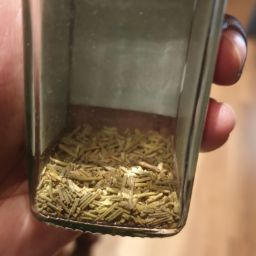Rosemary: (54, 91, 183, 249), (7, 114, 142, 256), (90, 130, 207, 256)
